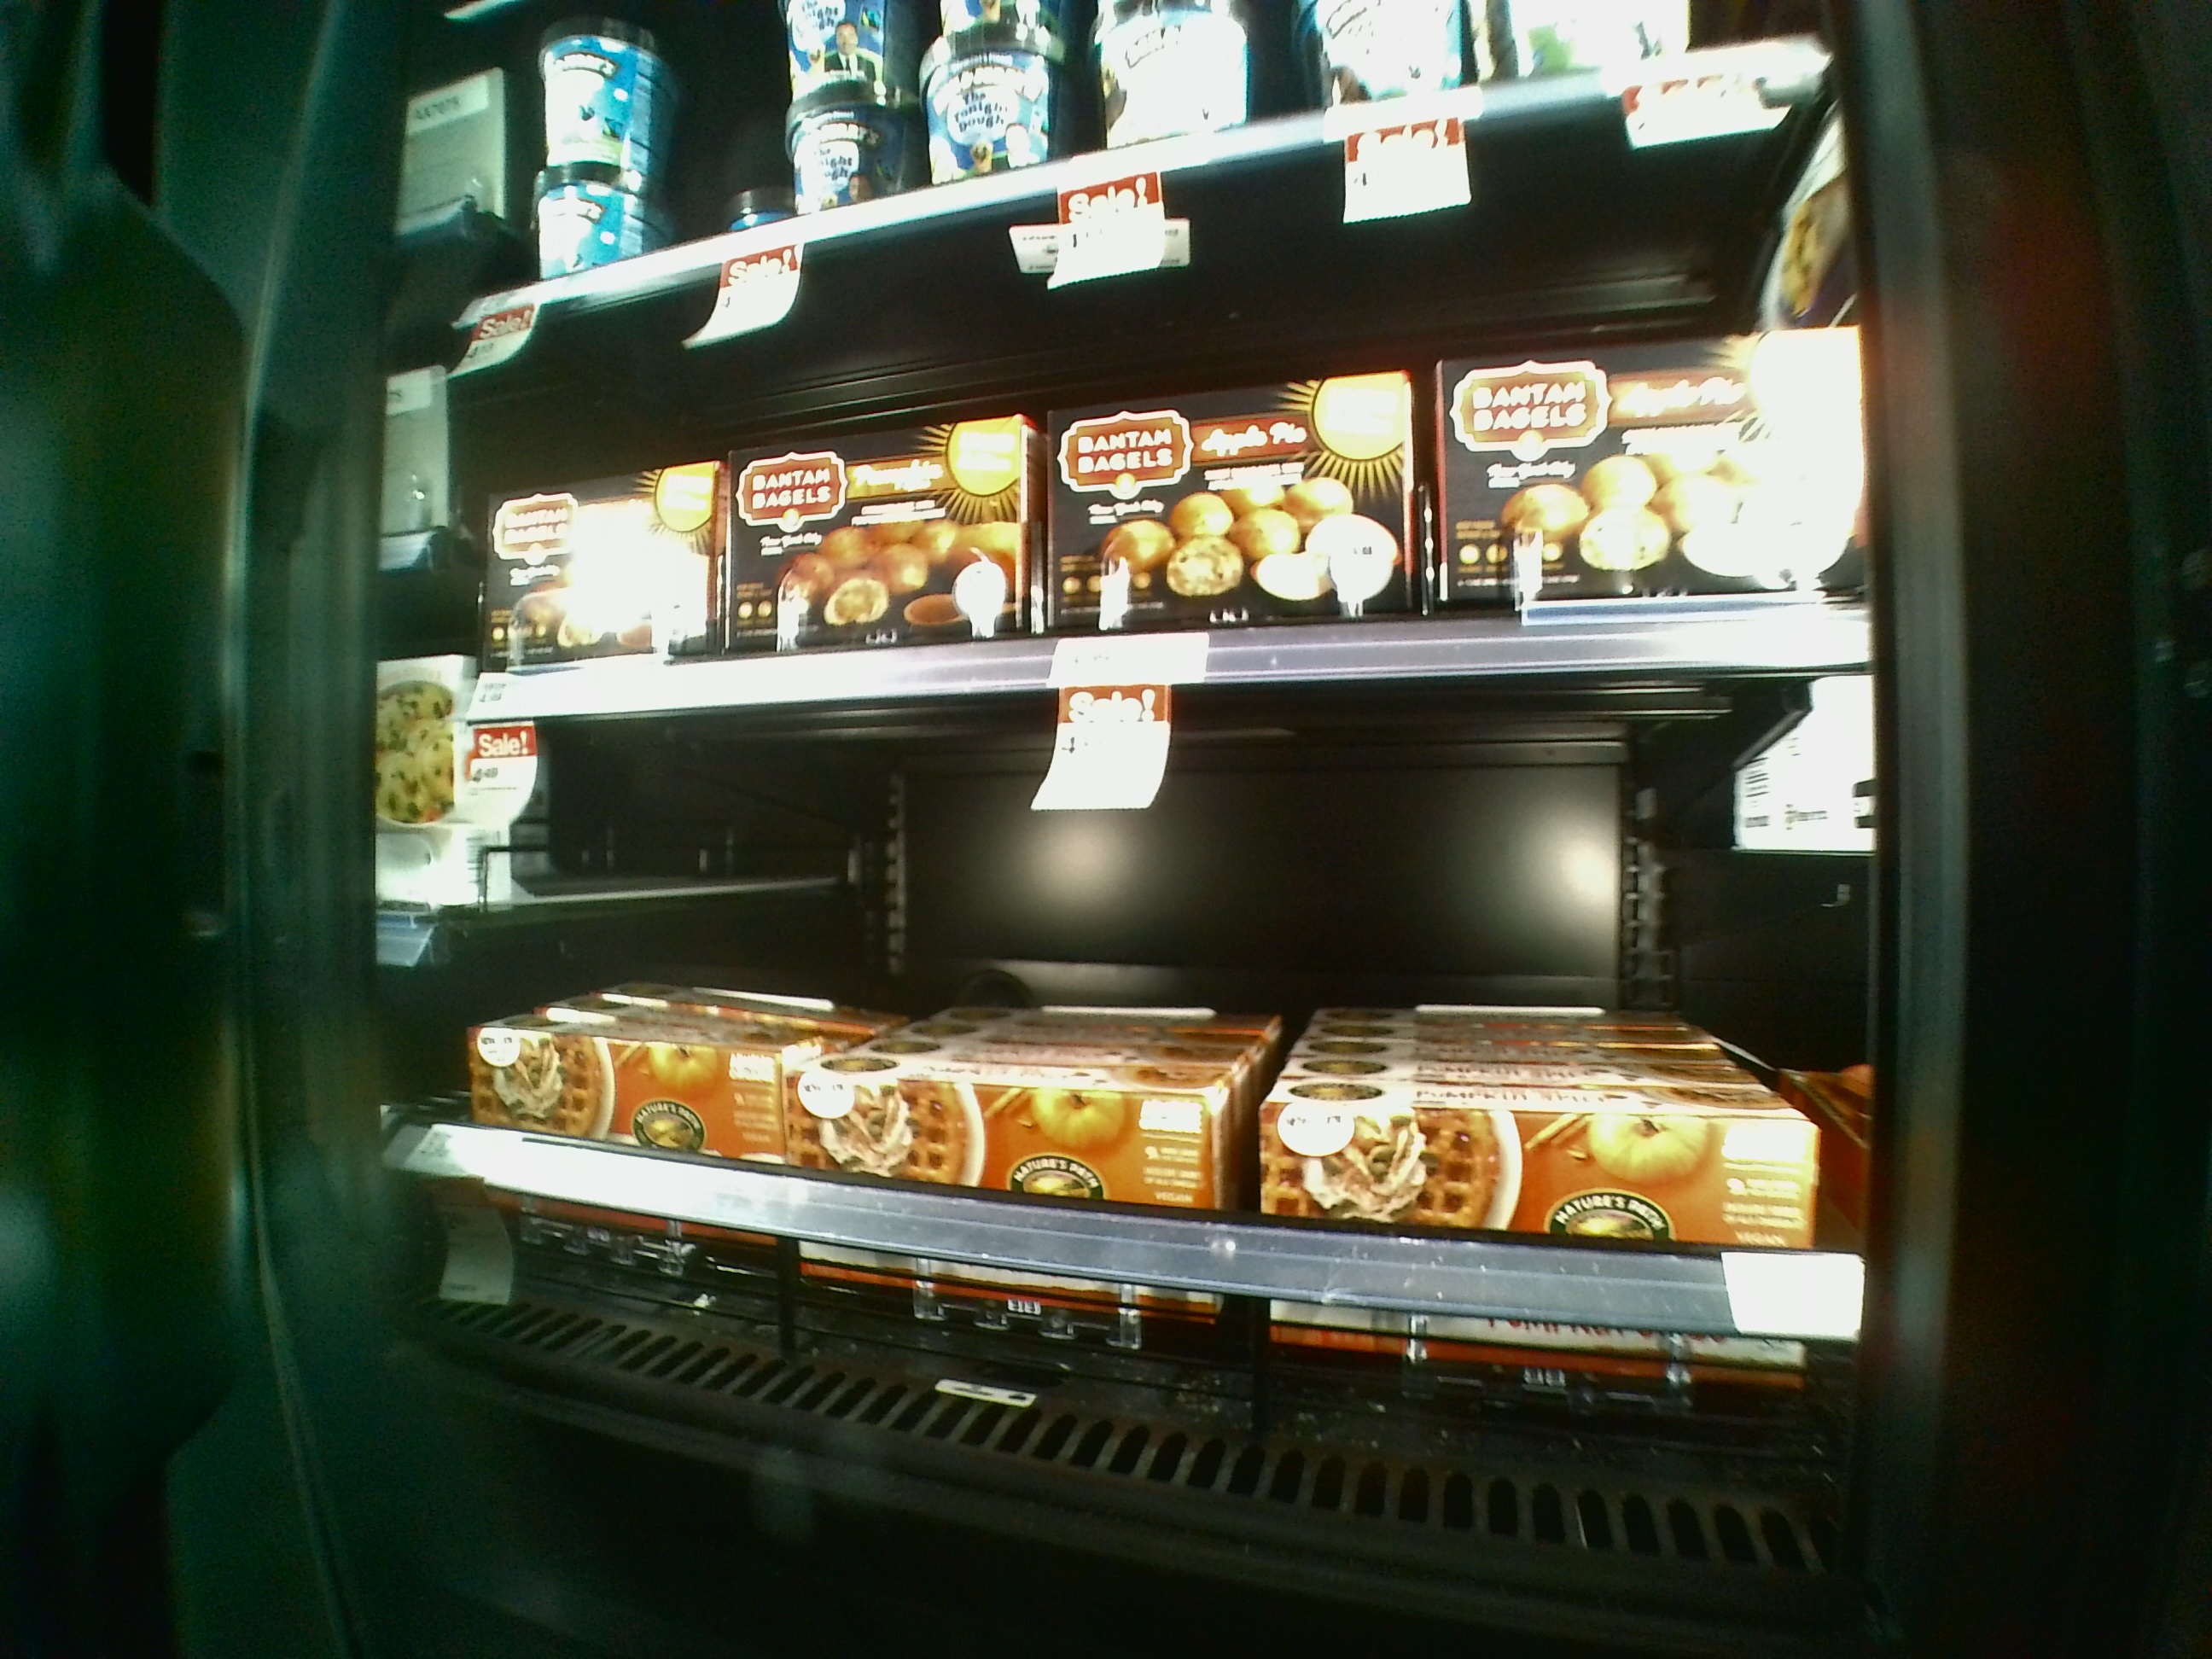shelf: (409, 699, 1864, 1560), (415, 277, 1895, 678)
